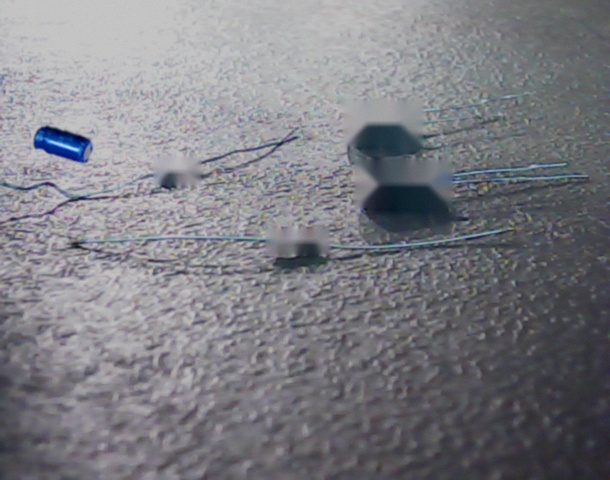capacitor: (33, 126, 93, 164)
